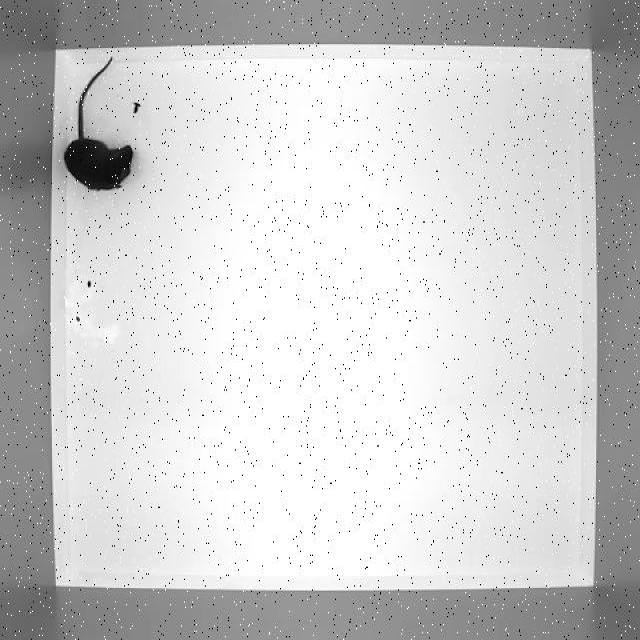rat: (60, 56, 135, 195)
